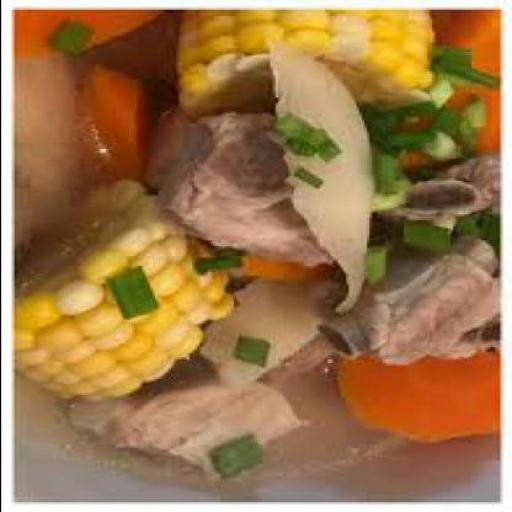biodegradable: (14, 178, 240, 398), (150, 103, 334, 266), (274, 38, 376, 312), (176, 10, 436, 117), (74, 361, 308, 476), (324, 232, 496, 364), (402, 8, 504, 168), (339, 347, 502, 441), (196, 280, 337, 386), (83, 63, 159, 189), (376, 151, 499, 222), (16, 8, 170, 57), (428, 41, 499, 86), (370, 129, 408, 206), (266, 340, 330, 385), (215, 430, 269, 478), (110, 264, 160, 313), (249, 255, 347, 280), (454, 95, 486, 151), (460, 210, 499, 248), (408, 218, 454, 250), (377, 101, 433, 127), (434, 110, 460, 158), (201, 246, 248, 270), (363, 244, 389, 286), (242, 334, 274, 366), (436, 75, 460, 107), (394, 129, 436, 145)
